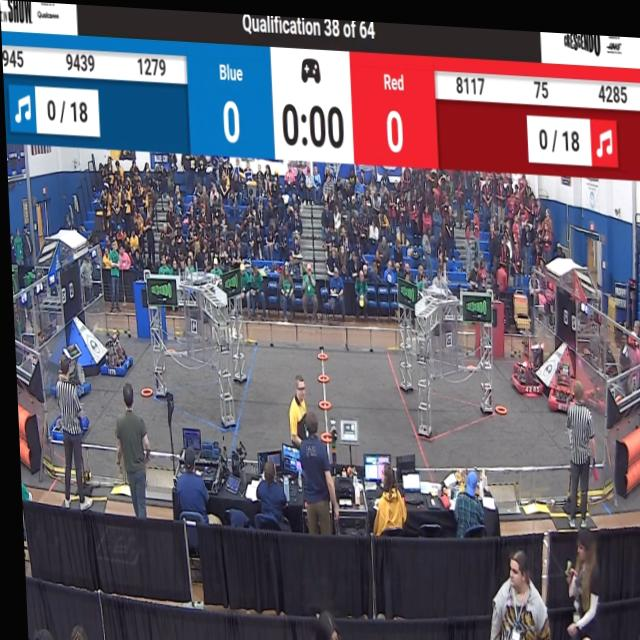Robot: (44, 324, 92, 408), (40, 381, 87, 458), (503, 324, 541, 402), (542, 336, 577, 412), (92, 323, 130, 386), (518, 312, 544, 368)
